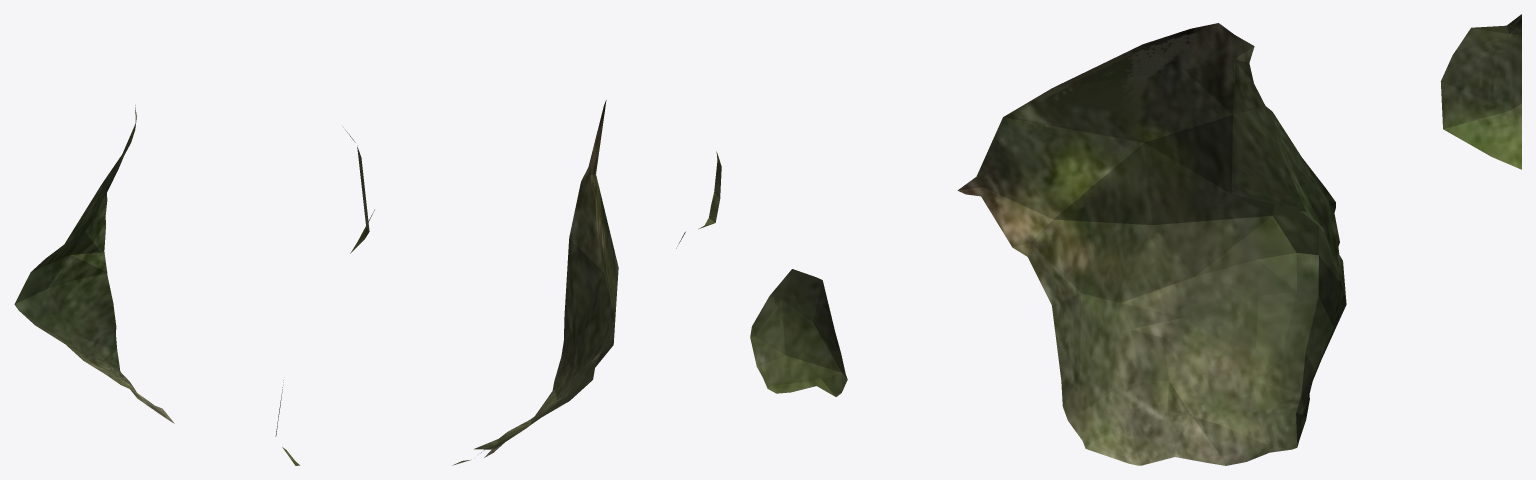
The picture shows the model from 3 angles, left to right: view 1: azimuth 30°, elevation 25°; view 2: azimuth 150°, elevation 25°; view 3: azimuth 270°, elevation 25°; orthographic projection. The views are drawn at different scales.
Size of the model in its own units: 1.27 by 3.73 by 5.78.
Materials: 1 (1 with a texture image).
